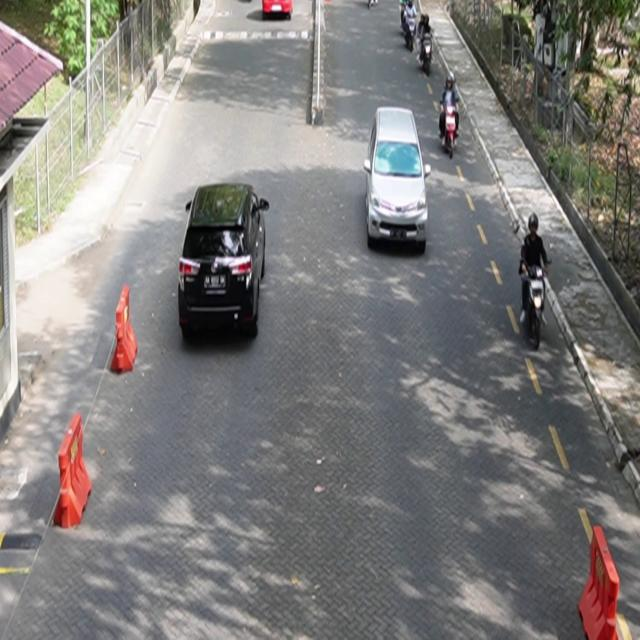car: (179, 182, 270, 341), (364, 107, 432, 253)
